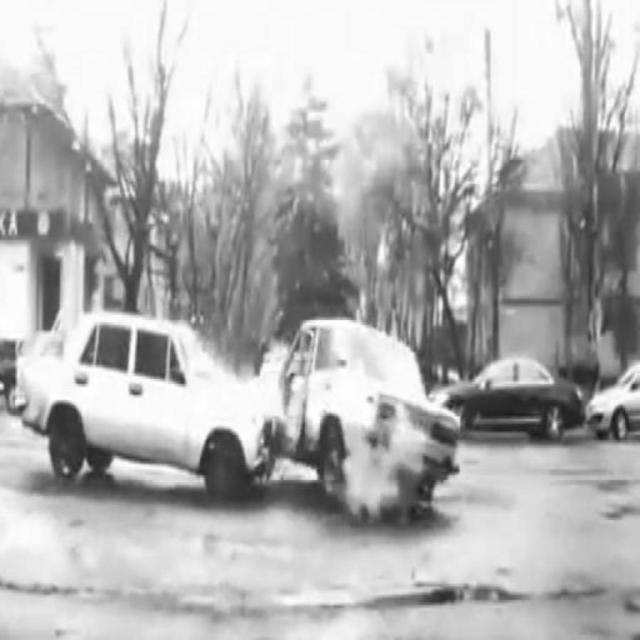accident: (14, 311, 464, 518)
vehicle: (432, 358, 586, 439), (585, 357, 639, 440)
